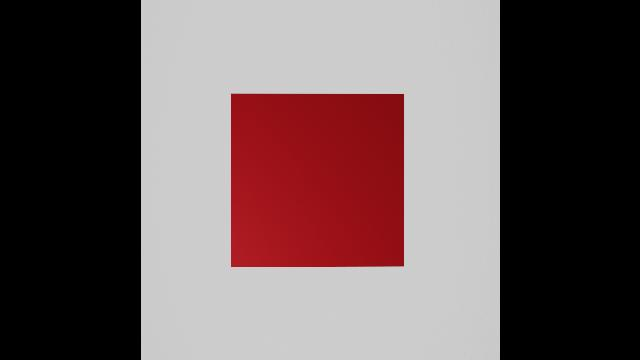Cube: (222, 86, 412, 274)
